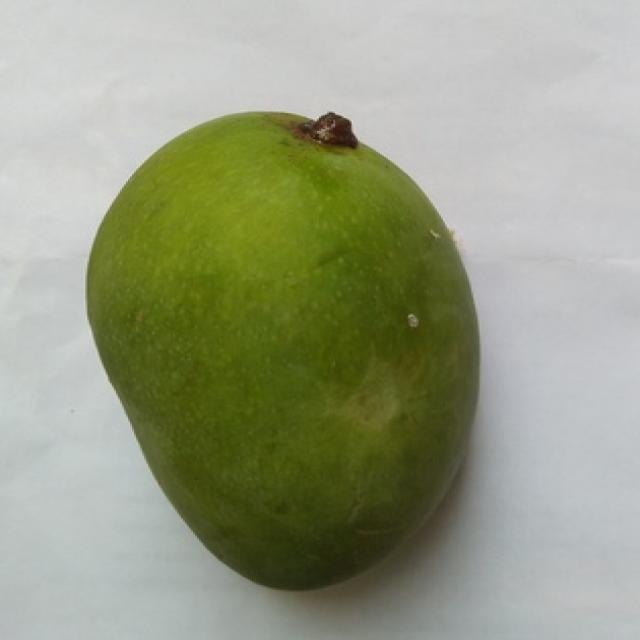Mango: (87, 113, 473, 588)
